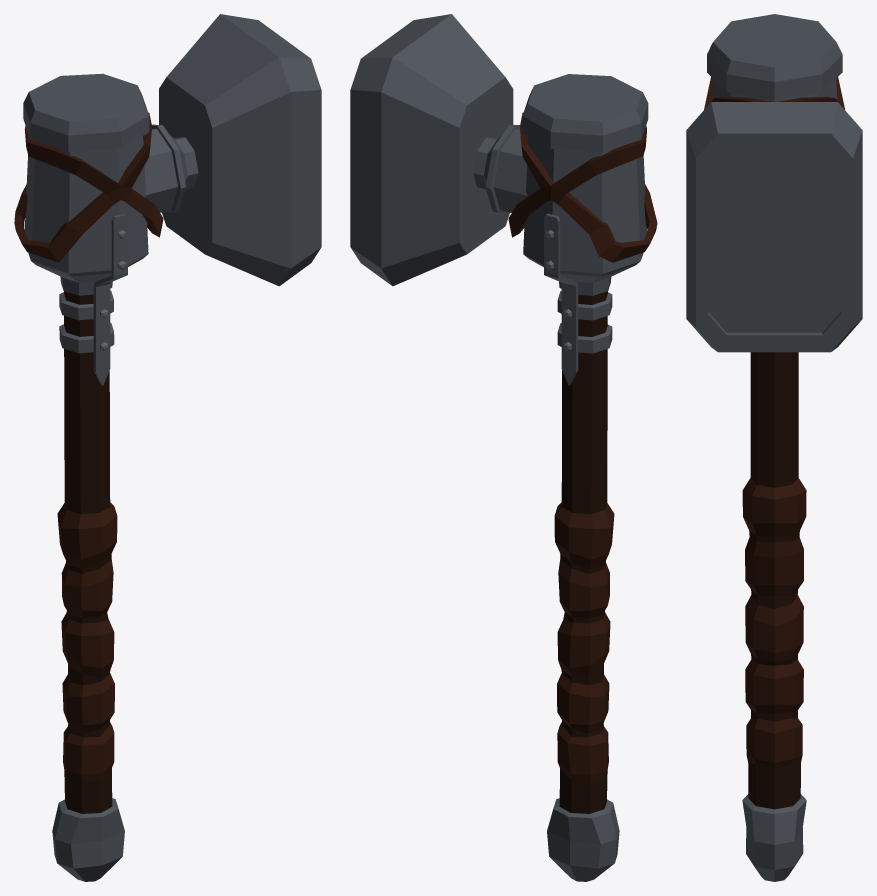
File: Hammer_Small.glb
The picture shows the model from 3 angles, left to right: view 1: azimuth 30°, elevation 25°; view 2: azimuth 150°, elevation 25°; view 3: azimuth 270°, elevation 25°; orthographic projection. The views are drawn at different scales.
Parts seen in each view (by area): view 1: Hammer_Small; view 2: Hammer_Small; view 3: Hammer_Small.
Part boxes in pixels (<box>): Hammer_Small: <box>14,14,321,881</box>; Hammer_Small: <box>350,14,657,881</box>; Hammer_Small: <box>686,14,862,881</box>.
Size of the model in its own units: 0.2378 by 0.6928 by 0.1289.
